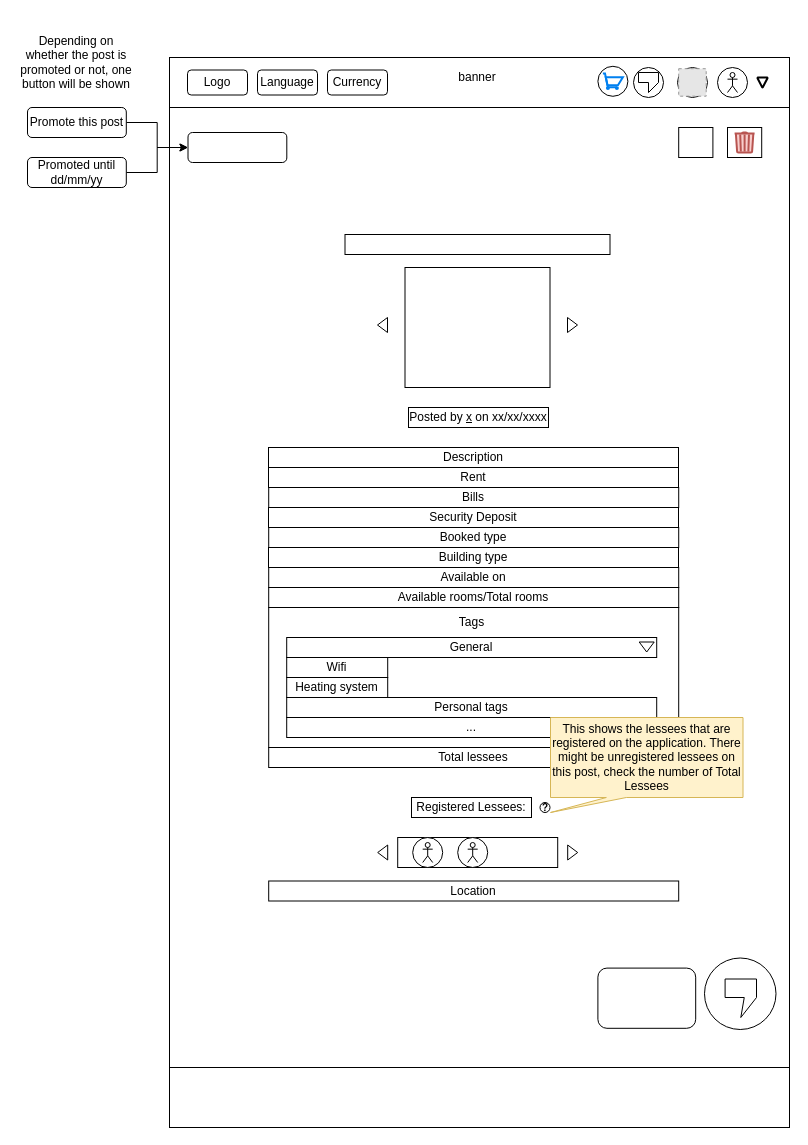
Image size: 808x1145. Some labels were removed from this diagram. Grey dashed boxes stand in for pictures. Here are the shapes that lost their labels. From the top down, the centre of each, then its label:
At [695,142]: "Edit".
At [477,244]: "Post's name".
At [477,327]: "Post's Images".
At [646,997]: "Check users that liked this post".
At [479,1097]: "footpage".
